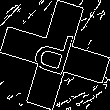P_S: (30, 26, 80, 84)
